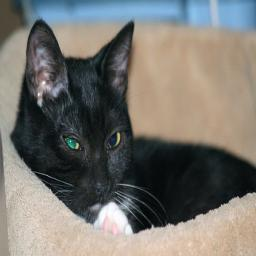catnose: (91, 161, 111, 199)
